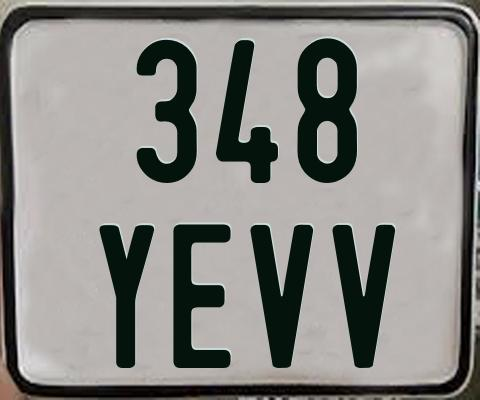3: (136, 40, 198, 187)
4: (215, 39, 283, 188)
8: (294, 37, 356, 184)
E: (170, 224, 234, 371)
V: (329, 224, 396, 370), (249, 224, 312, 367)
Y: (97, 225, 155, 370)
